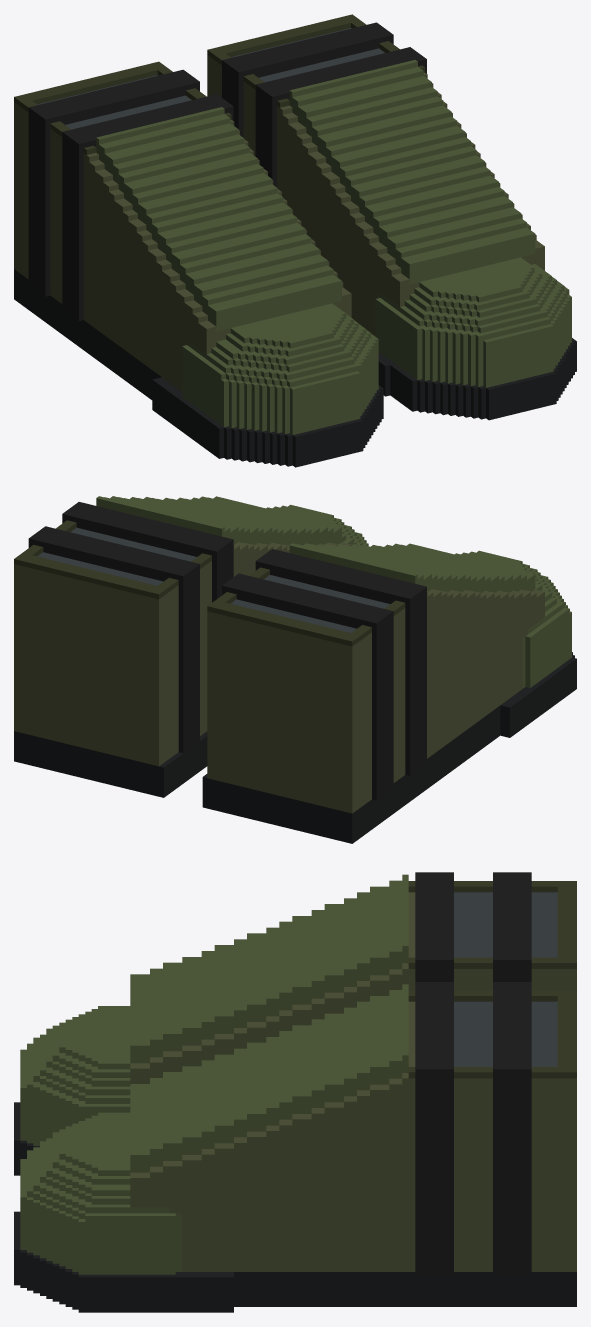
The model's file is foot_protectors_eod.glb.
3 views of the same model, one above another, from view 1: azimuth 30°, elevation 25°; view 2: azimuth 150°, elevation 25°; view 3: azimuth 270°, elevation 25° (orthographic). The views are drawn at different scales.
Parts seen in each view (by area): view 1: foot_protectors_eod:compound; view 2: foot_protectors_eod:compound; view 3: foot_protectors_eod:compound.
Part boxes in pixels (left/top/right/bottom): foot_protectors_eod:compound: left=14, top=14, right=576, bottom=467; foot_protectors_eod:compound: left=14, top=496, right=576, bottom=843; foot_protectors_eod:compound: left=14, top=872, right=576, bottom=1312.
Bounding box in the file's own units: 0.296 × 0.168 × 0.348.
